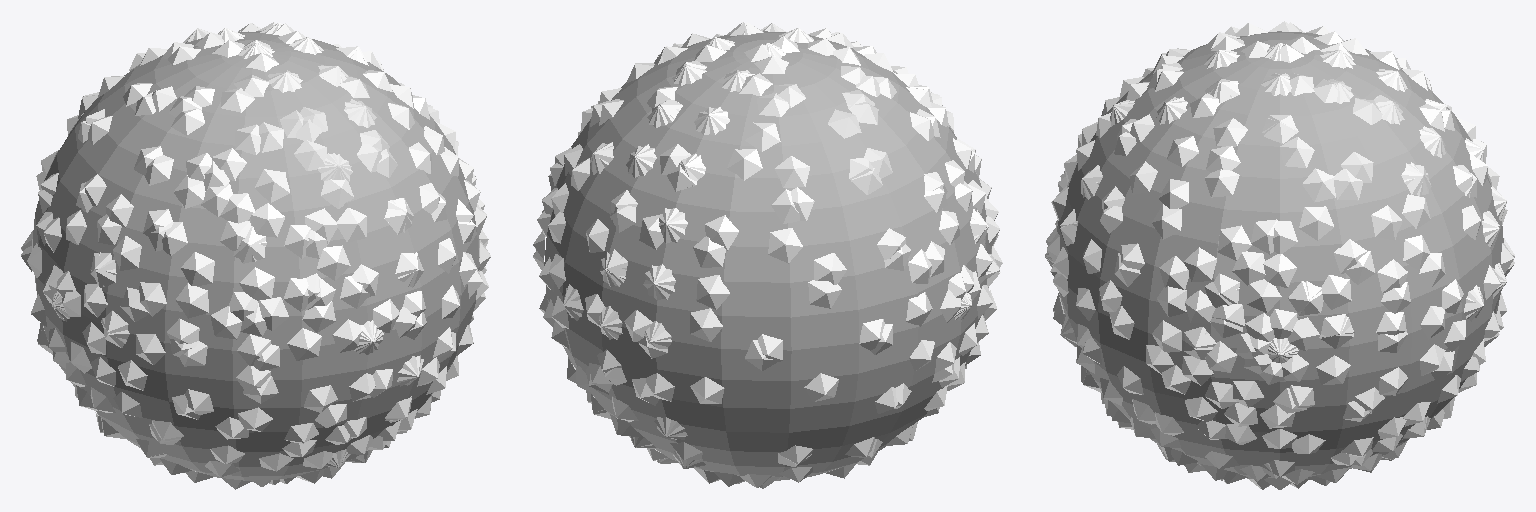
The model's file is AntiVir_Transporter_1.obj.
3 renders of one model, left to right at view 1: azimuth 30°, elevation 25°; view 2: azimuth 150°, elevation 25°; view 3: azimuth 270°, elevation 25°, orthographic.
Parts seen in each view (by area): view 1: pSphere1, polySurface7; view 2: pSphere1, polySurface7; view 3: pSphere1, polySurface7.
Boxes of the visible parts, x1,y1,x2,y2 form: pSphere1: [33, 31, 479, 480]; polySurface7: [21, 22, 490, 489]; pSphere1: [544, 31, 991, 480]; polySurface7: [533, 22, 1002, 488]; pSphere1: [1057, 31, 1503, 478]; polySurface7: [1045, 21, 1514, 489].
Bounding box in the file's own units: 2.09 × 2.09 × 2.09.